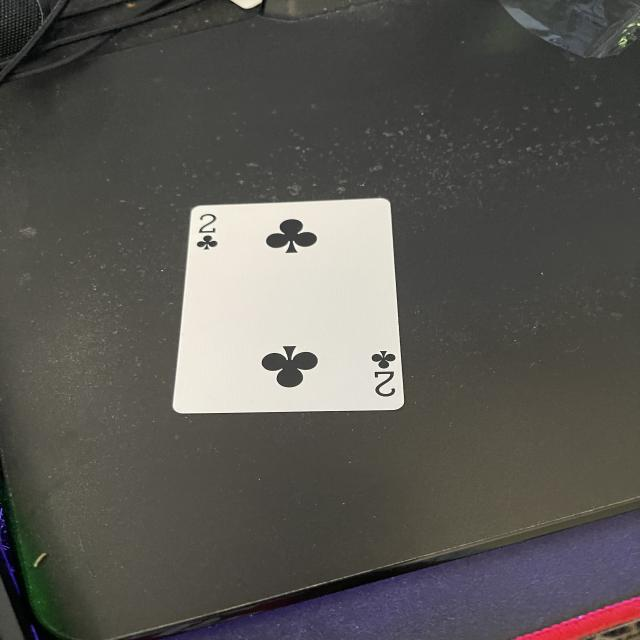2 of clubs: (181, 200, 417, 429)
